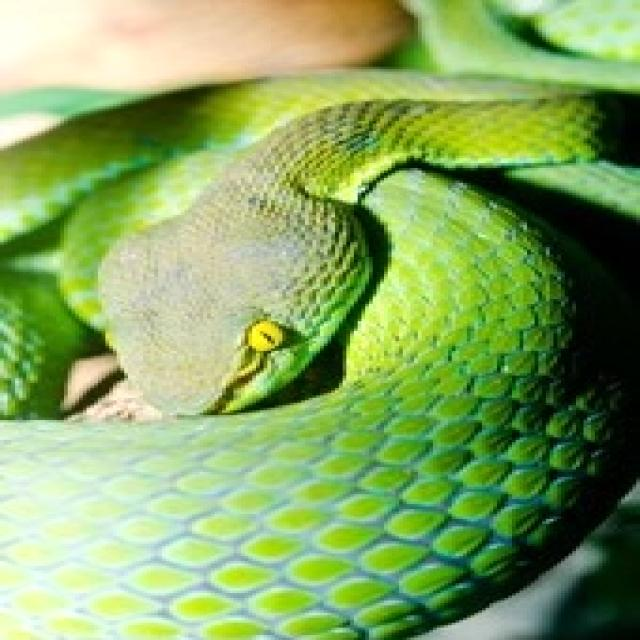Trimeresurus macrops: (0, 72, 636, 639)
